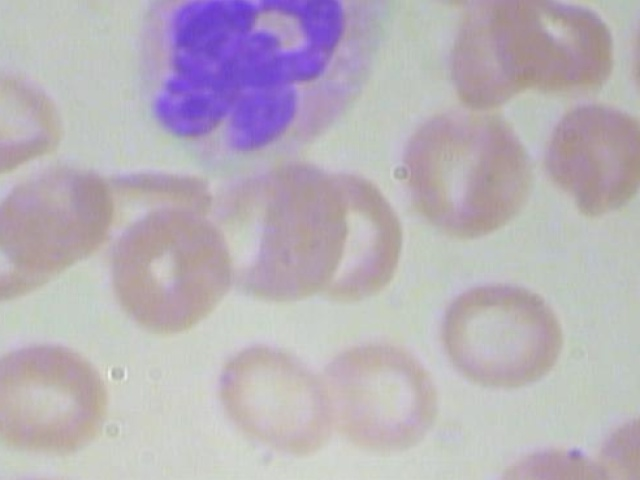Platelets: (550, 0, 604, 2)
RBC: (395, 100, 540, 254), (103, 209, 239, 341), (207, 330, 335, 467), (439, 274, 572, 394), (476, 0, 622, 101), (319, 334, 434, 455), (0, 327, 107, 456), (0, 160, 114, 272), (536, 99, 640, 215), (484, 443, 617, 480)
WBC: (123, 0, 397, 171)
